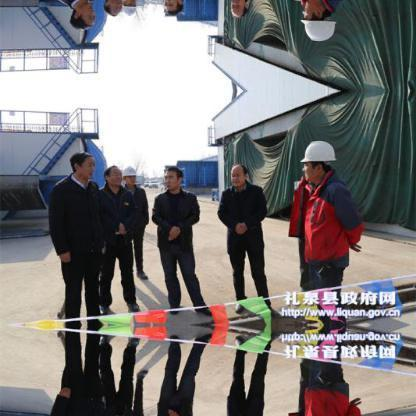helmet: (295, 138, 342, 174)
